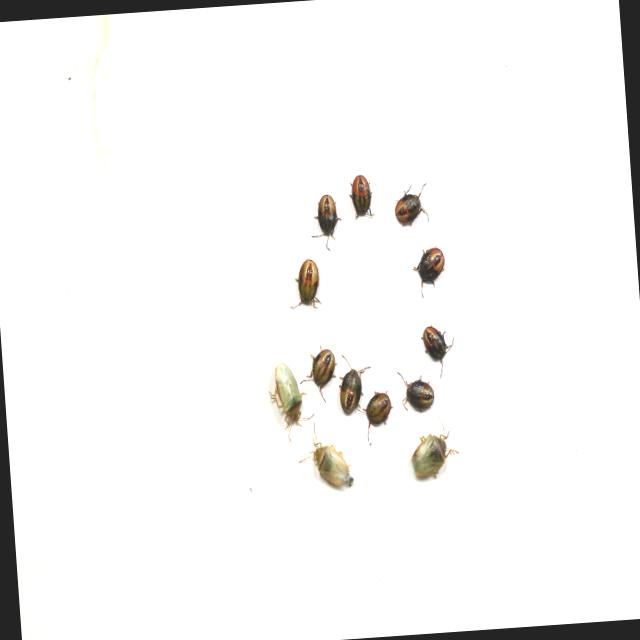stinkbug: (265, 358, 318, 446), (295, 418, 356, 493), (407, 410, 462, 484)
